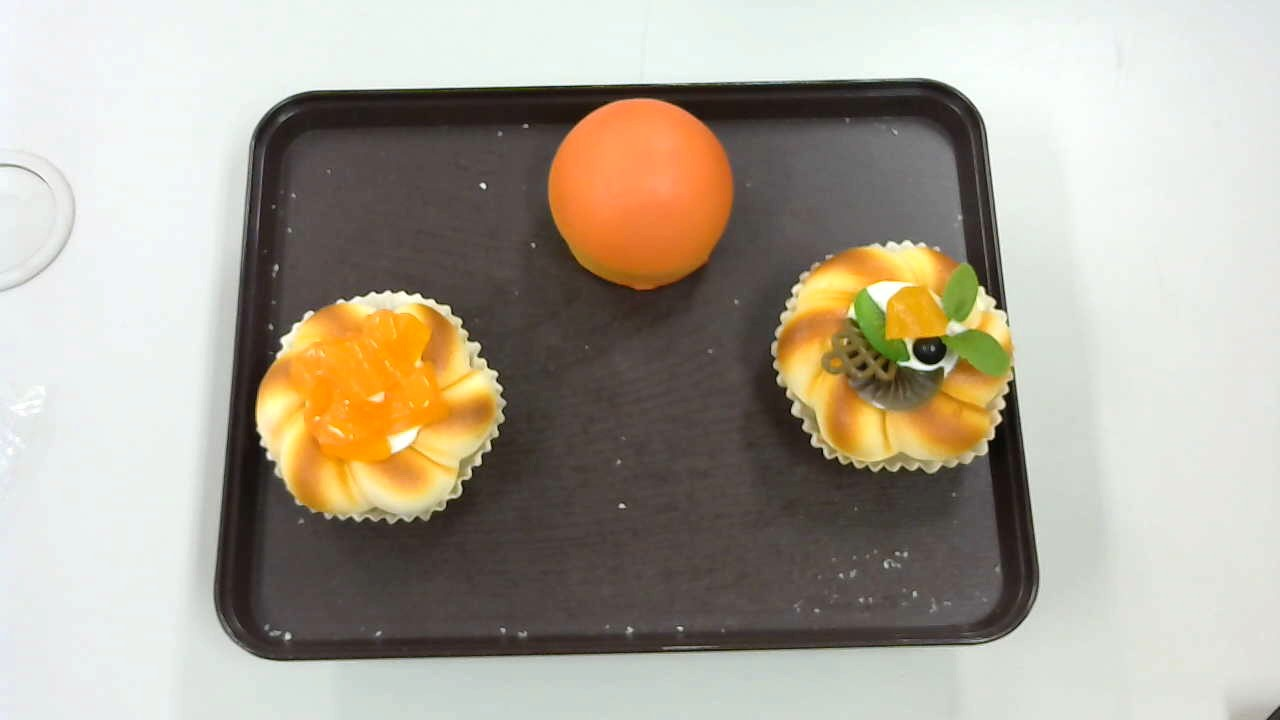bun: (548, 98, 733, 289)
fruit tart: (771, 241, 1015, 474)
mango tart: (256, 289, 506, 523)
